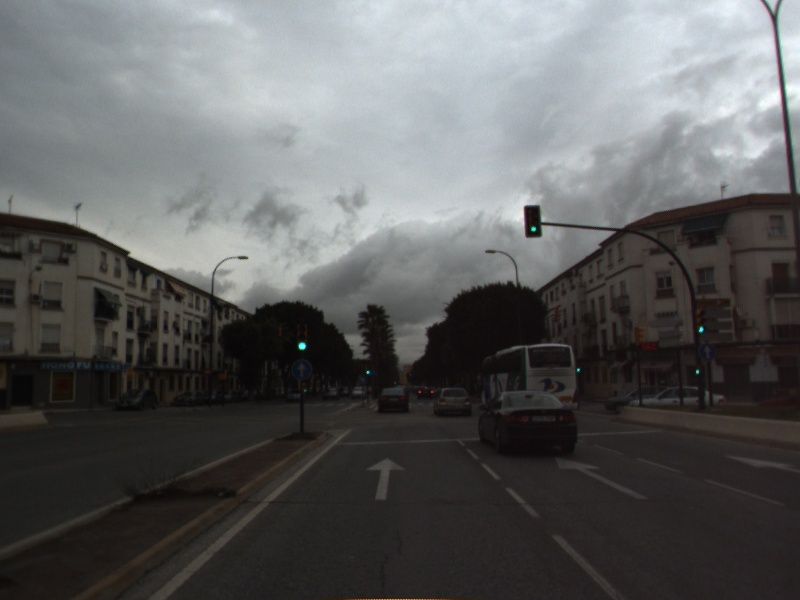STRAIGHT: (554, 454, 651, 502), (364, 455, 408, 503), (722, 451, 800, 473)
